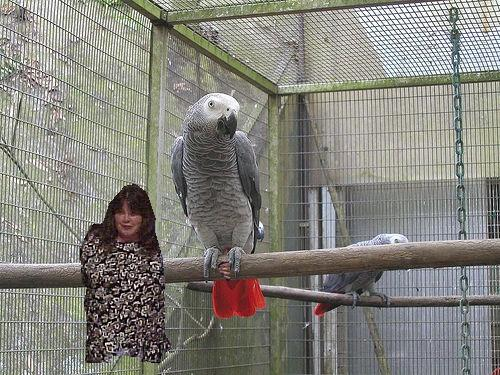tampered: (81, 185, 230, 363)
